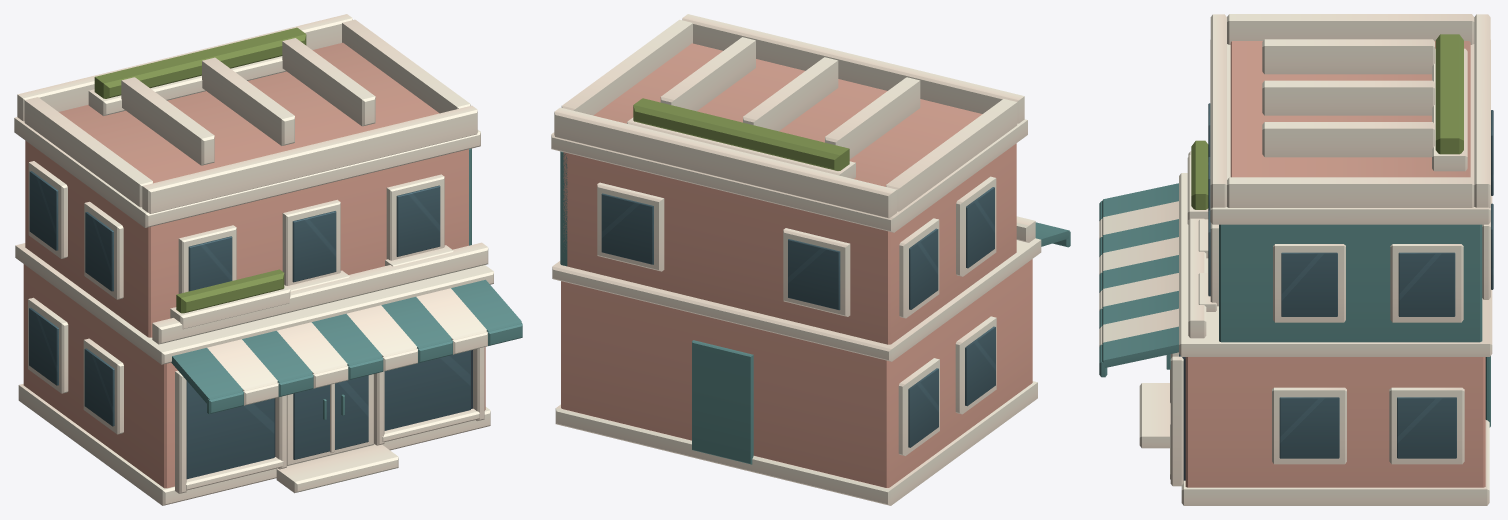
The model's file is 04C-market-threejs.glb.
3 views of the same model, side by side, from view 1: azimuth 30°, elevation 25°; view 2: azimuth 150°, elevation 25°; view 3: azimuth 270°, elevation 25° (orthographic). The views are drawn at different scales.
Visible parts, largest first — view 1: 04C / trim, 04C / wall, 04C / glass, 04C / roof, 04C / accent, 04C / green; view 2: 04C / wall, 04C / trim, 04C / glass, 04C / roof, 04C / accent, 04C / green; view 3: 04C / trim, 04C / accent, 04C / wall, 04C / glass, 04C / roof, 04C / green.
Boxes of the visible parts, <box> form: 04C / trim: <box>14,14,493,505</box>; 04C / wall: <box>23,140,485,488</box>; 04C / glass: <box>29,171,470,479</box>; 04C / roof: <box>59,42,439,183</box>; 04C / accent: <box>171,148,522,419</box>; 04C / green: <box>94,27,306,313</box>; 04C / wall: <box>561,143,1032,487</box>; 04C / trim: <box>551,14,1041,505</box>; 04C / glass: <box>601,187,995,447</box>; 04C / roof: <box>593,43,982,186</box>; 04C / accent: <box>560,151,1070,464</box>; 04C / green: <box>633,98,849,170</box>; 04C / trim: <box>1099,14,1492,505</box>; 04C / accent: <box>1099,183,1490,427</box>; 04C / wall: <box>1185,357,1485,487</box>; 04C / glass: <box>1179,103,1493,458</box>; 04C / roof: <box>1230,41,1470,177</box>; 04C / green: <box>1191,34,1463,209</box>.
Bounding box in the file's own units: 6.28 × 5.71 × 6.04.
Materials: 7 (7 with a texture image).
